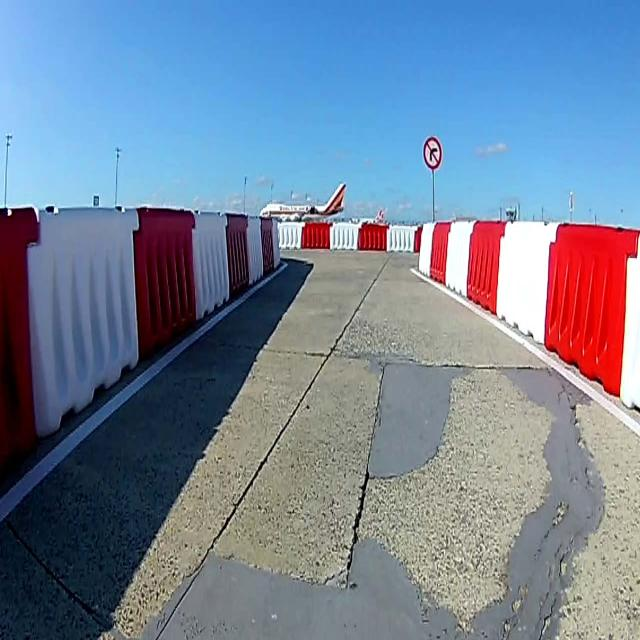sagadonulmez: (423, 138, 442, 170)
